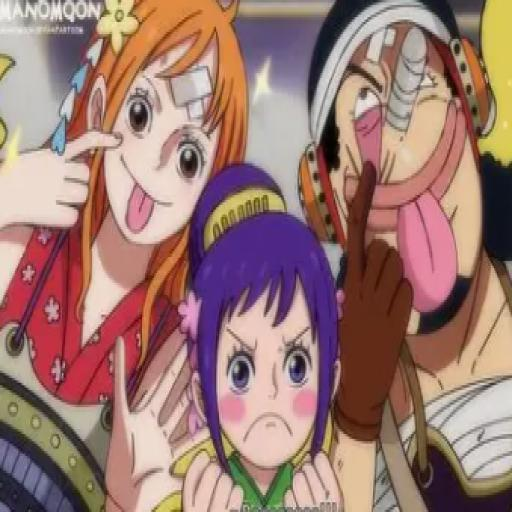Nami: (0, 0, 252, 512)
Usopp: (295, 1, 512, 512)
